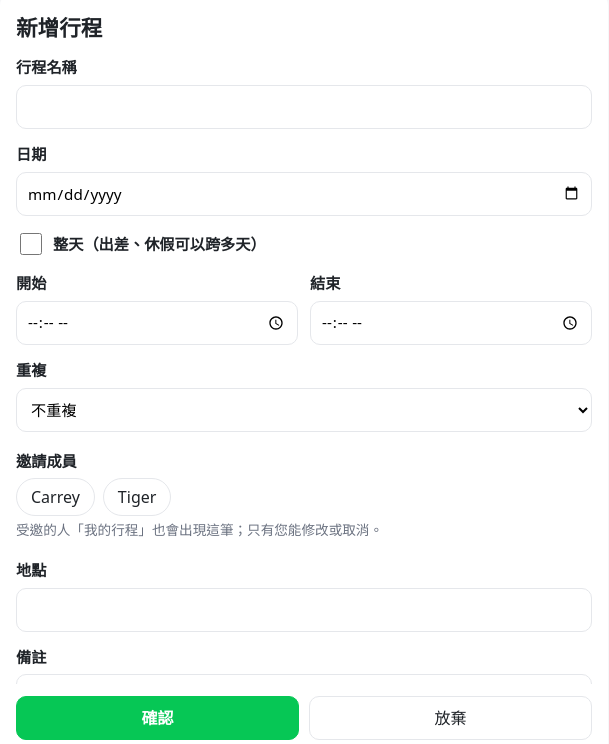
Scenario: multi-day trip sends the last day as end_local
Type "越南出差" into the field labelled "行程名稱".
click(304, 107); type("越南出差")  # box x1=16 y1=85 x2=592 y2=129
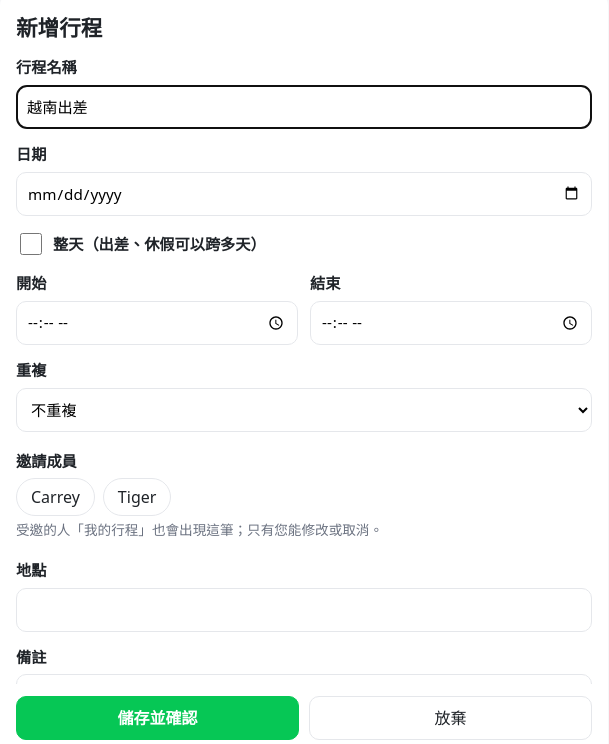
Click the checkbox labelled "整天（出差、休假可以跨多天）".
click(31, 244)  # box x1=20 y1=233 x2=42 y2=255
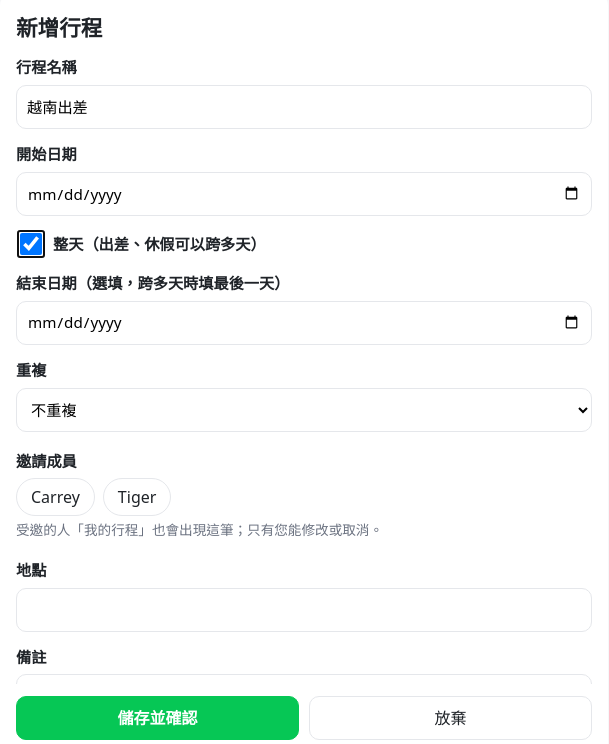
Type "2026-10-26" into the date field labelled "開始日期".
click(304, 194); type("2026-10-26")  # box x1=16 y1=172 x2=592 y2=216
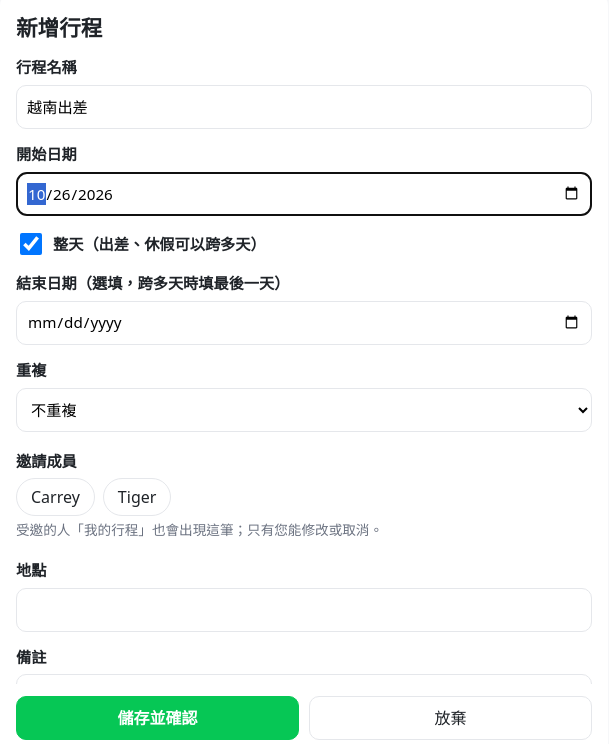
Type "2026-10-30" into the date field labelled "結束日期（選填，跨多天時填最後一天）".
click(304, 323); type("2026-10-30")  # box x1=16 y1=301 x2=592 y2=345
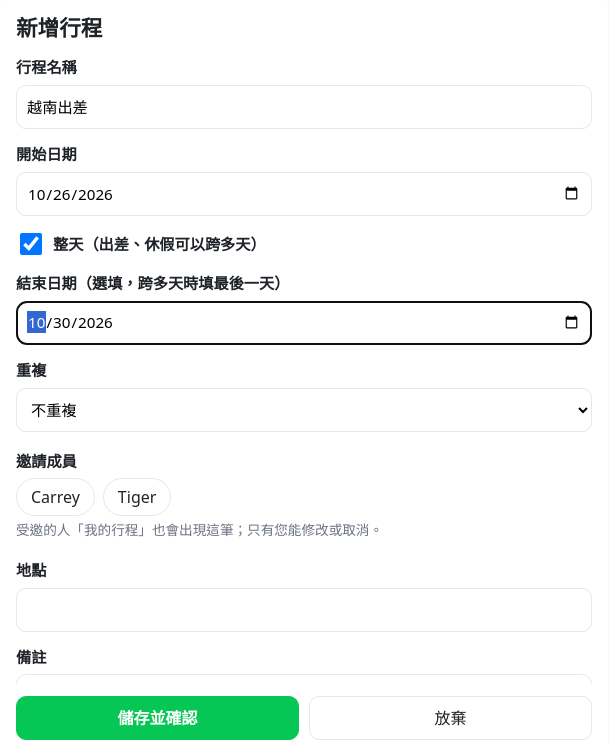
Click the button "儲存並確認".
click(158, 718)  # box x1=16 y1=696 x2=299 y2=740
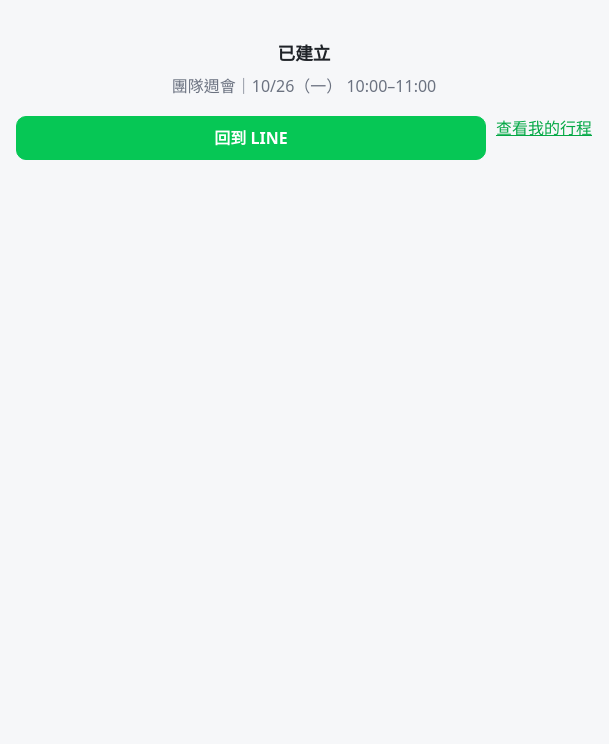
Check: the heading "已建立" is shown, box x1=278 y1=41 x2=330 y2=65
